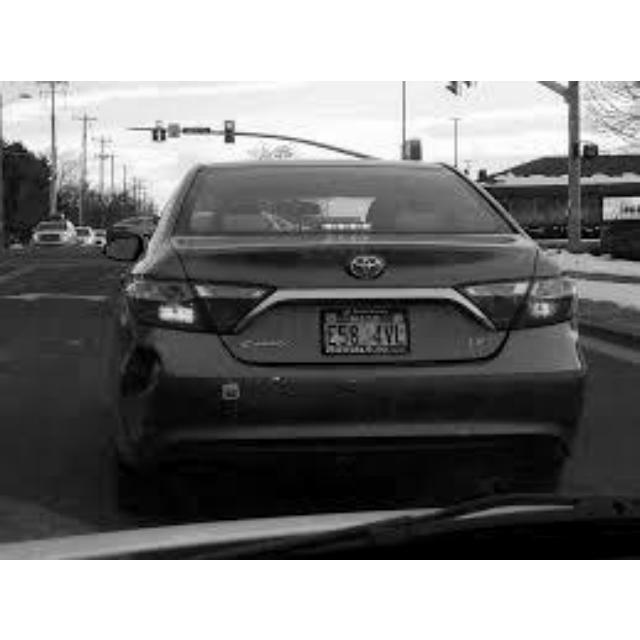rear-bumper-dent: (87, 328, 282, 491)
